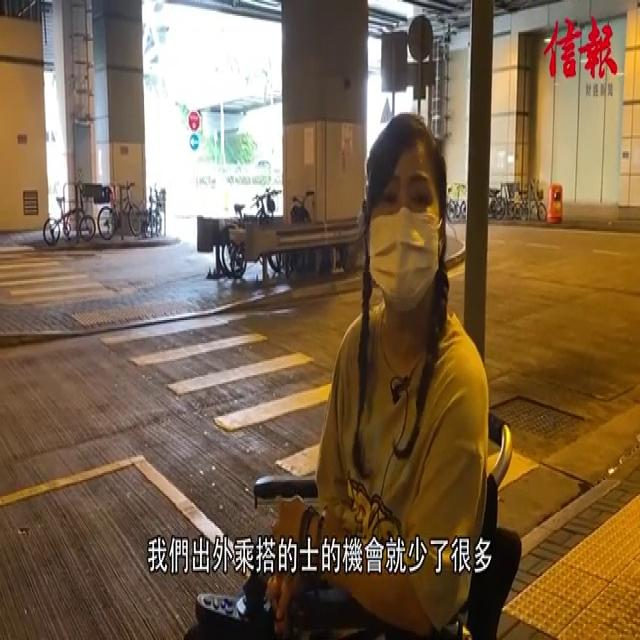wheelchairs: (195, 400, 542, 640)
